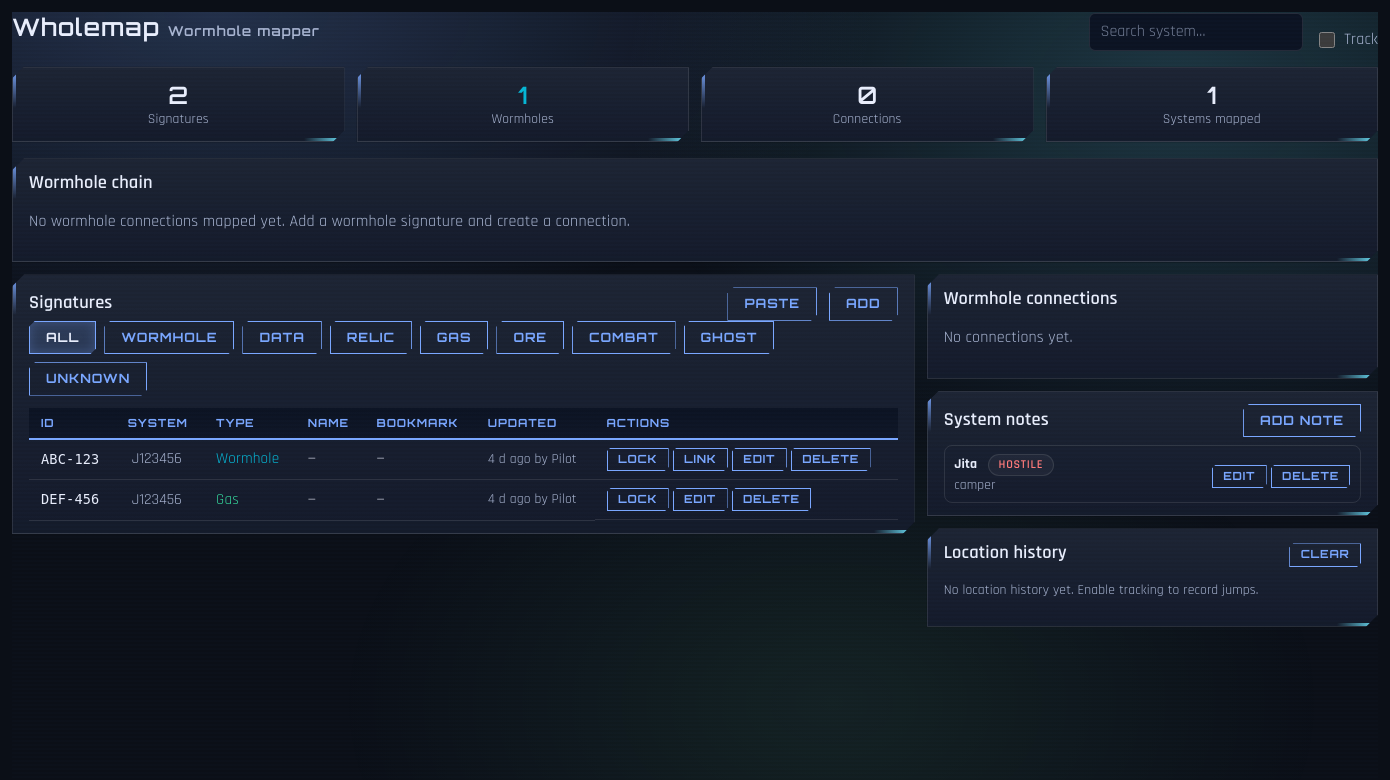
Test: Wholemap › filters signatures by type
Expected: the text "ABC-123" is shown, [29,438,116,480]
Click the button "Gas".
click(454, 337)  # box [420,321,488,354]
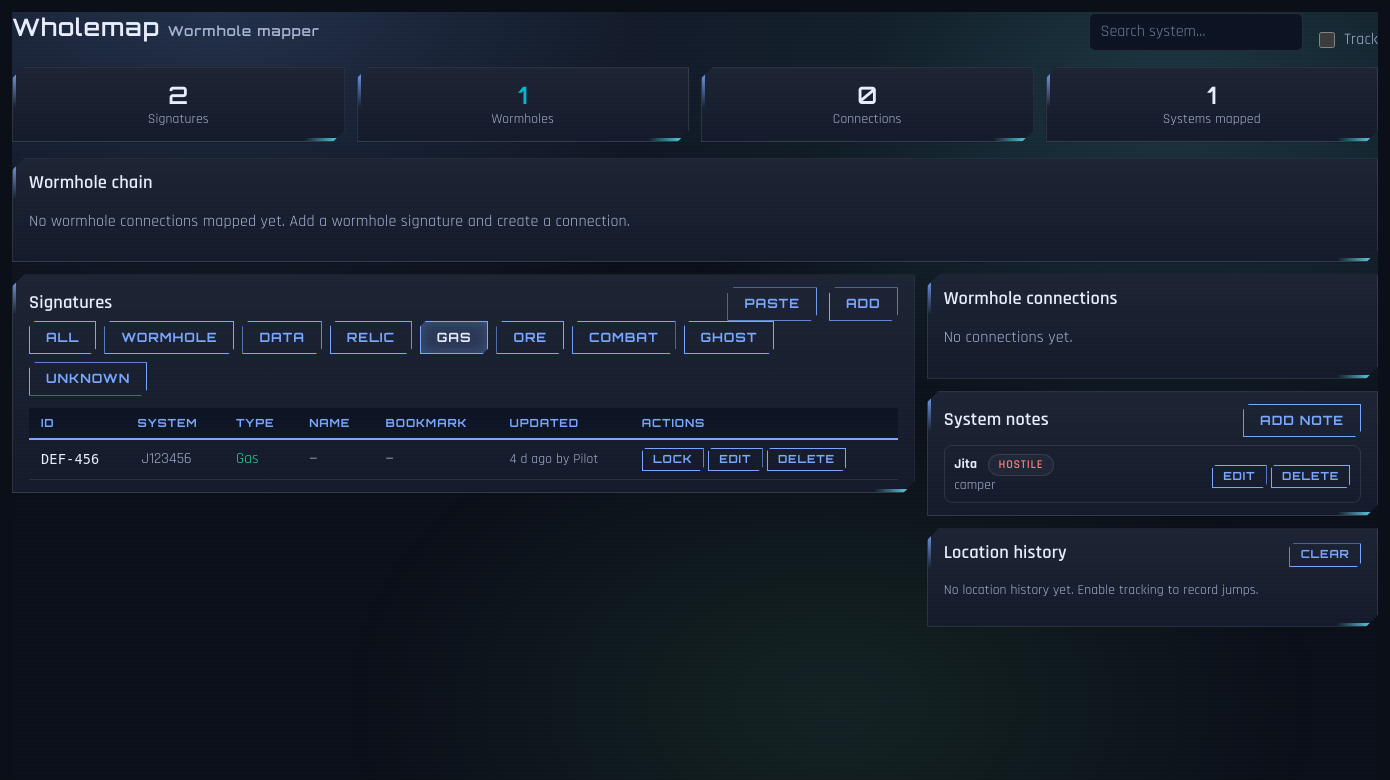
Expected: the text "DEF-456" is shown, [29,438,126,480]
Expected: the text "ABC-123" is gone
